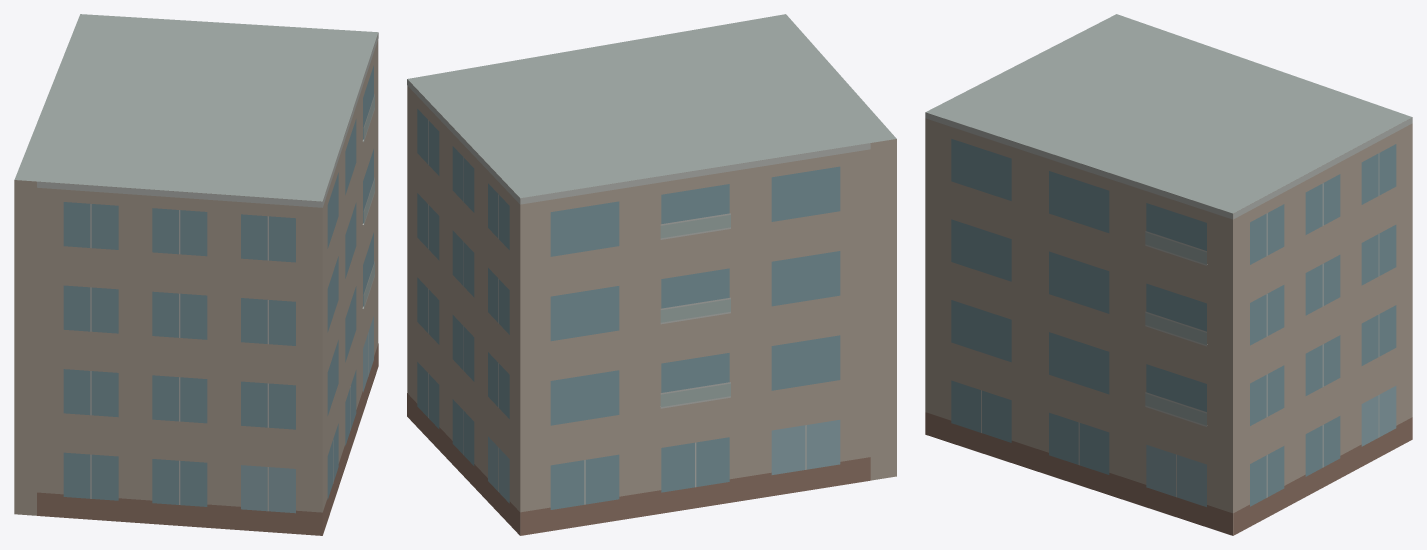
The model's file is survey-upis-32915785.glb.
The picture shows the model from 3 angles, left to right: view 1: azimuth 30°, elevation 25°; view 2: azimuth 150°, elevation 25°; view 3: azimuth 270°, elevation 25°; orthographic projection. The views are drawn at different scales.
Visible parts, largest first — view 1: survey-upis-32915785.tmp; view 2: survey-upis-32915785.tmp; view 3: survey-upis-32915785.tmp.
Part boxes in pixels (left/top/right/bottom): survey-upis-32915785.tmp: left=14, top=14, right=378, bottom=535; survey-upis-32915785.tmp: left=407, top=14, right=896, bottom=535; survey-upis-32915785.tmp: left=925, top=14, right=1412, bottom=535.
Bounding box in the file's own units: 17.27 × 13 × 17.82.
